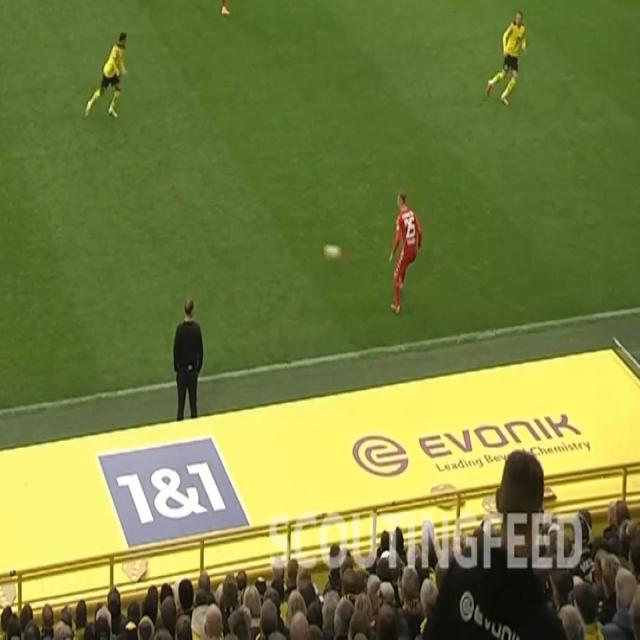ball: (321, 244, 344, 262)
